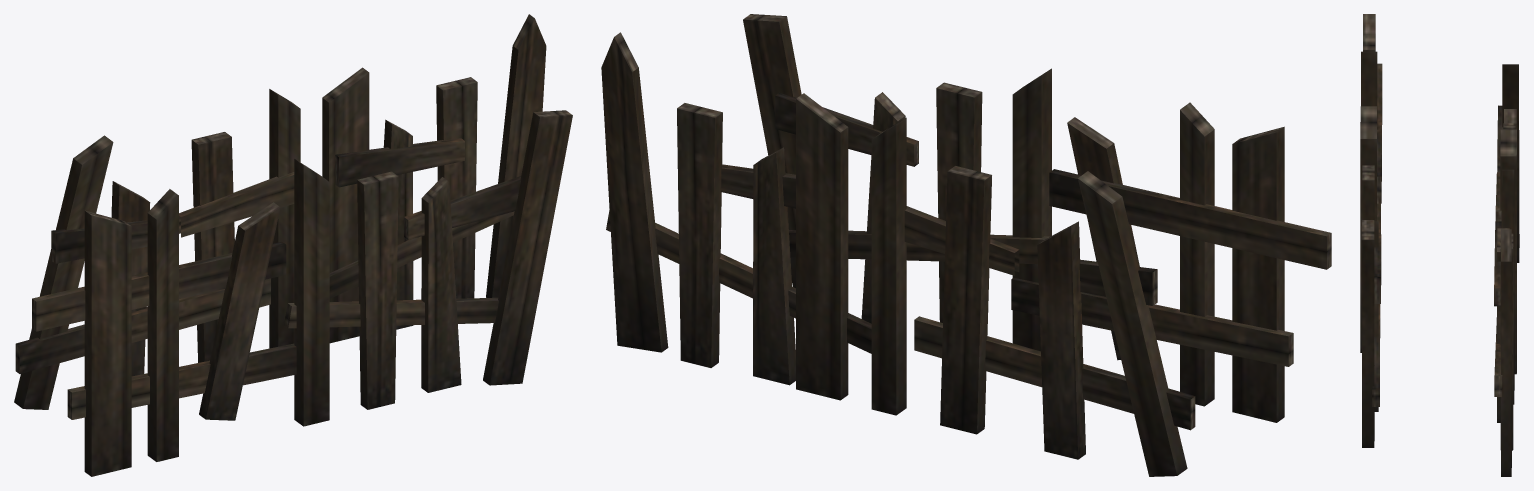
Rendered from JJS_QY_WeiLan.FBX.
The picture shows the model from 3 angles, left to right: view 1: azimuth 30°, elevation 25°; view 2: azimuth 150°, elevation 25°; view 3: azimuth 270°, elevation 25°; orthographic projection. The views are drawn at different scales.
Visible parts, largest first — view 1: JJS_QY_WeiLan01, JJS_QY_WeiLan02; view 2: JJS_QY_WeiLan02, JJS_QY_WeiLan01; view 3: JJS_QY_WeiLan02, JJS_QY_WeiLan01.
Boxes of the visible parts, x1,y1,x2,y2 form: JJS_QY_WeiLan01: (32,110,572,476); JJS_QY_WeiLan02: (14,14,546,409); JJS_QY_WeiLan02: (601,32,1195,476); JJS_QY_WeiLan01: (743,14,1331,422); JJS_QY_WeiLan02: (1494,64,1519,476); JJS_QY_WeiLan01: (1360,14,1382,447).
Bounding box in the file's own units: 323 × 152 × 85.04.
